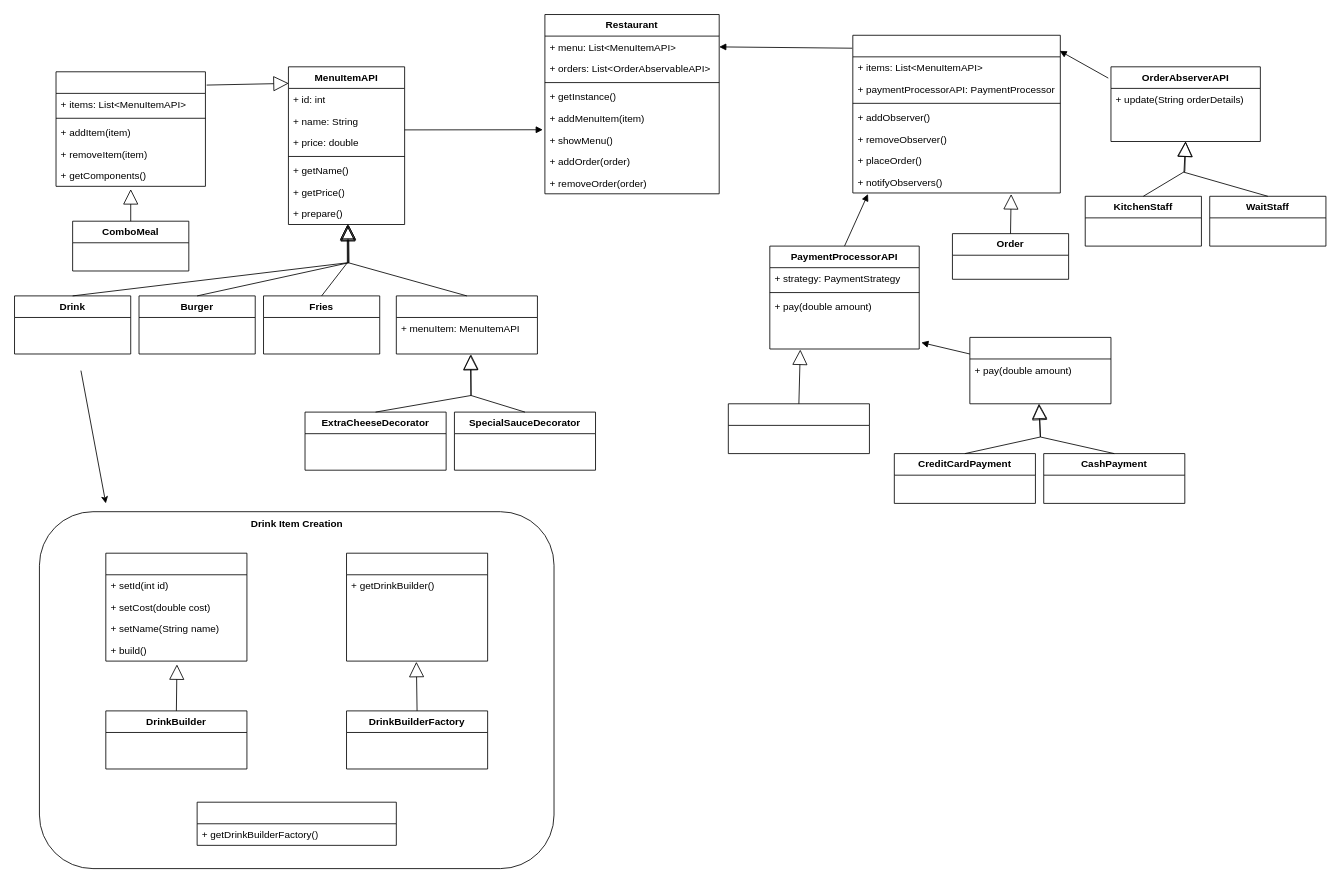
Image size: 1340x883. Some labels were removed from this diagram. The box of each missing label's shape, as (x1, y1, x2, y2) in pixels:
DrinkBuilderAPI: (105, 552, 247, 661)
DrinkBuilderFactoryAPI: (346, 552, 488, 661)
MenuComponentAPI: (55, 71, 205, 186)
OrderAbservableAPI: (852, 34, 1060, 193)
OrderItemDecoratorAPI: (395, 295, 537, 354)
PaymentProcessor: (727, 403, 869, 454)
PaymentStrategyAPI: (969, 337, 1111, 404)
SingletonDrinkBuilderFactoryEnum: (196, 801, 396, 845)
